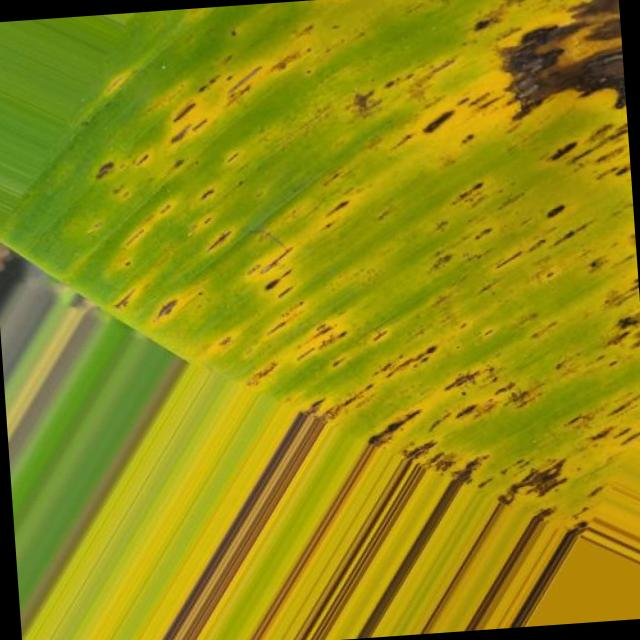Banana_Black_Sigatoka: (250, 309, 640, 543), (173, 33, 444, 280), (426, 0, 635, 261)
